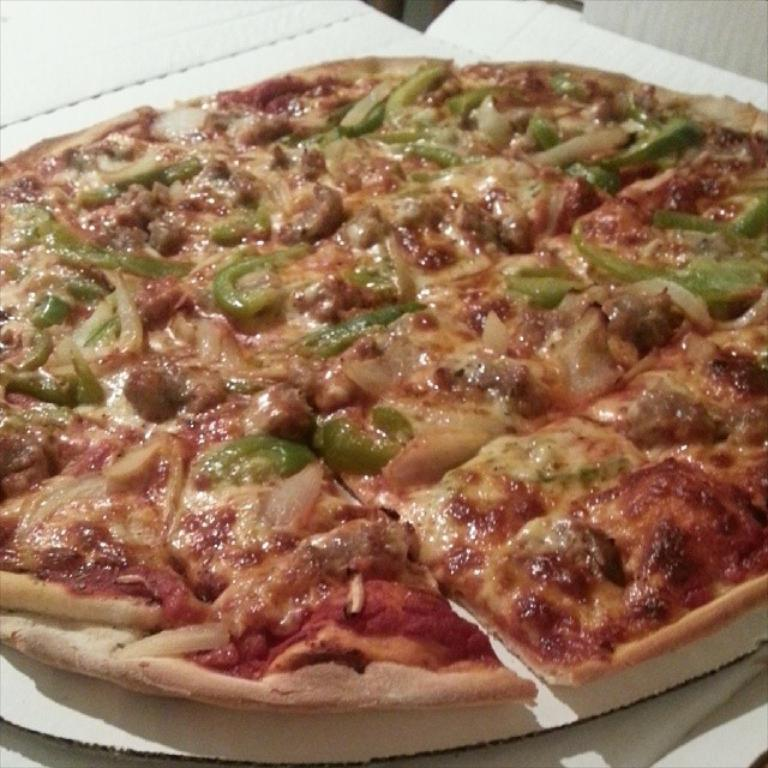Pizza: (0, 61, 768, 711)
